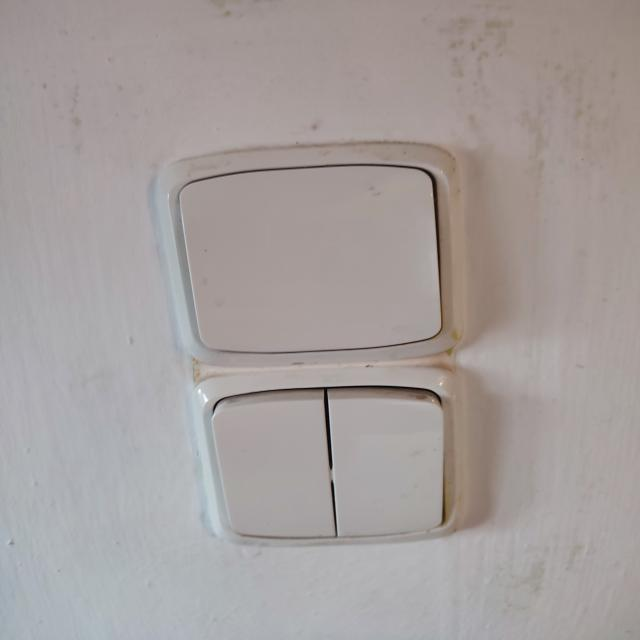house switch: (162, 150, 459, 359)
house switch double: (203, 374, 459, 547)
